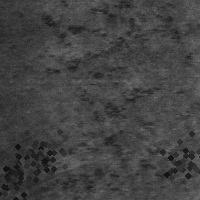rolled-in_scale: (35, 2, 181, 94), (61, 83, 172, 196), (0, 119, 71, 191), (152, 129, 200, 193), (0, 153, 38, 200)
